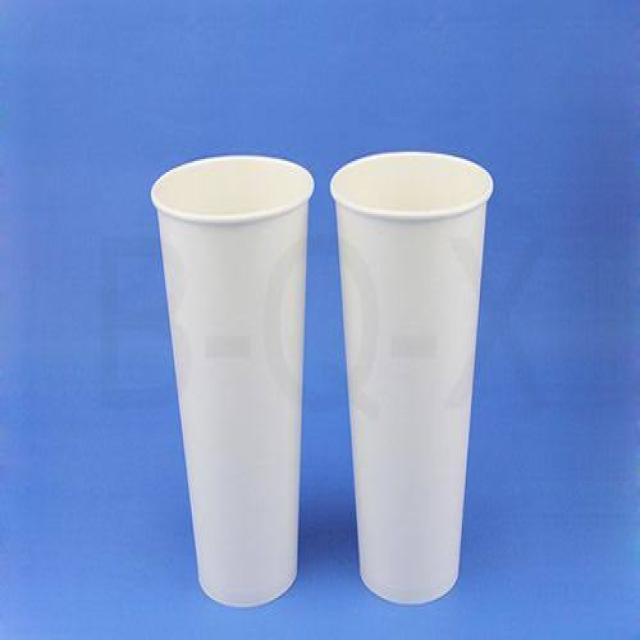plastic cup: (143, 141, 323, 638)
